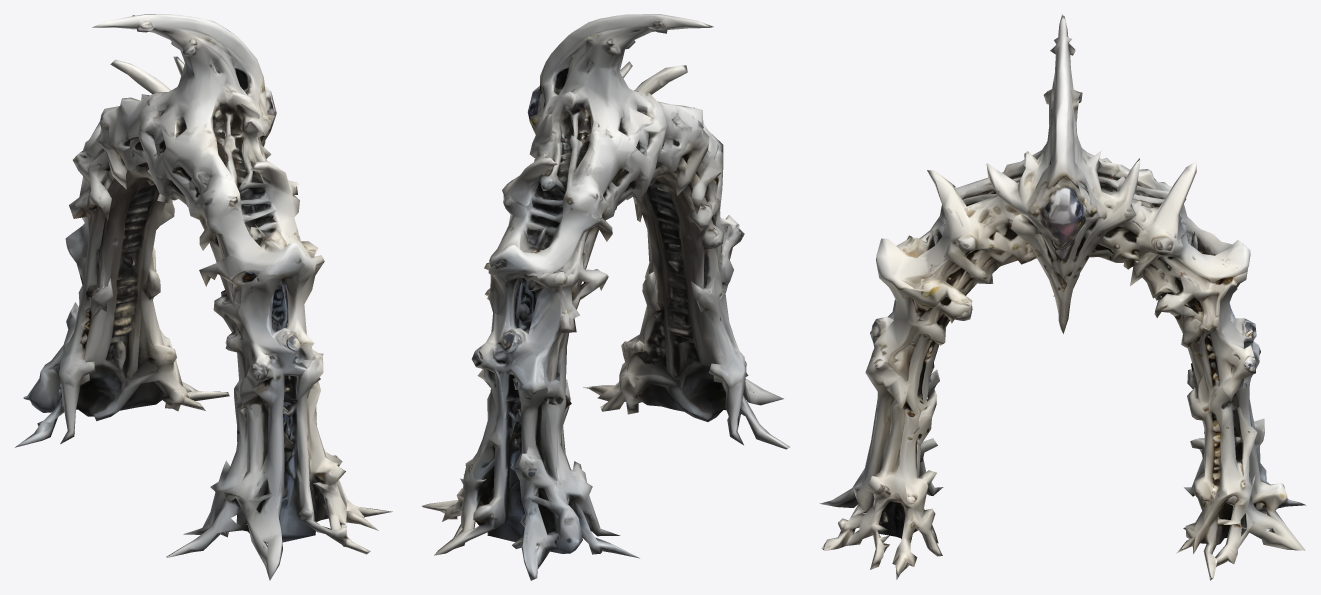
The model's file is arch.glb.
The picture shows the model from 3 angles, left to right: view 1: azimuth 30°, elevation 25°; view 2: azimuth 150°, elevation 25°; view 3: azimuth 270°, elevation 25°; orthographic projection. The views are drawn at different scales.
Parts seen in each view (by area): view 1: node_16b80d96-1393-45e9-be3a-36756dae7d59; view 2: node_16b80d96-1393-45e9-be3a-36756dae7d59; view 3: node_16b80d96-1393-45e9-be3a-36756dae7d59.
Part boxes in pixels (x1=…): node_16b80d96-1393-45e9-be3a-36756dae7d59: x1=15, y1=14, x2=392, y2=580; node_16b80d96-1393-45e9-be3a-36756dae7d59: x1=422, y1=14, x2=789, y2=580; node_16b80d96-1393-45e9-be3a-36756dae7d59: x1=819, y1=14, x2=1305, y2=580.
Size of the model in its own units: 0.4771 by 1 by 0.9429.
Materials: 1 (1 with a texture image).
